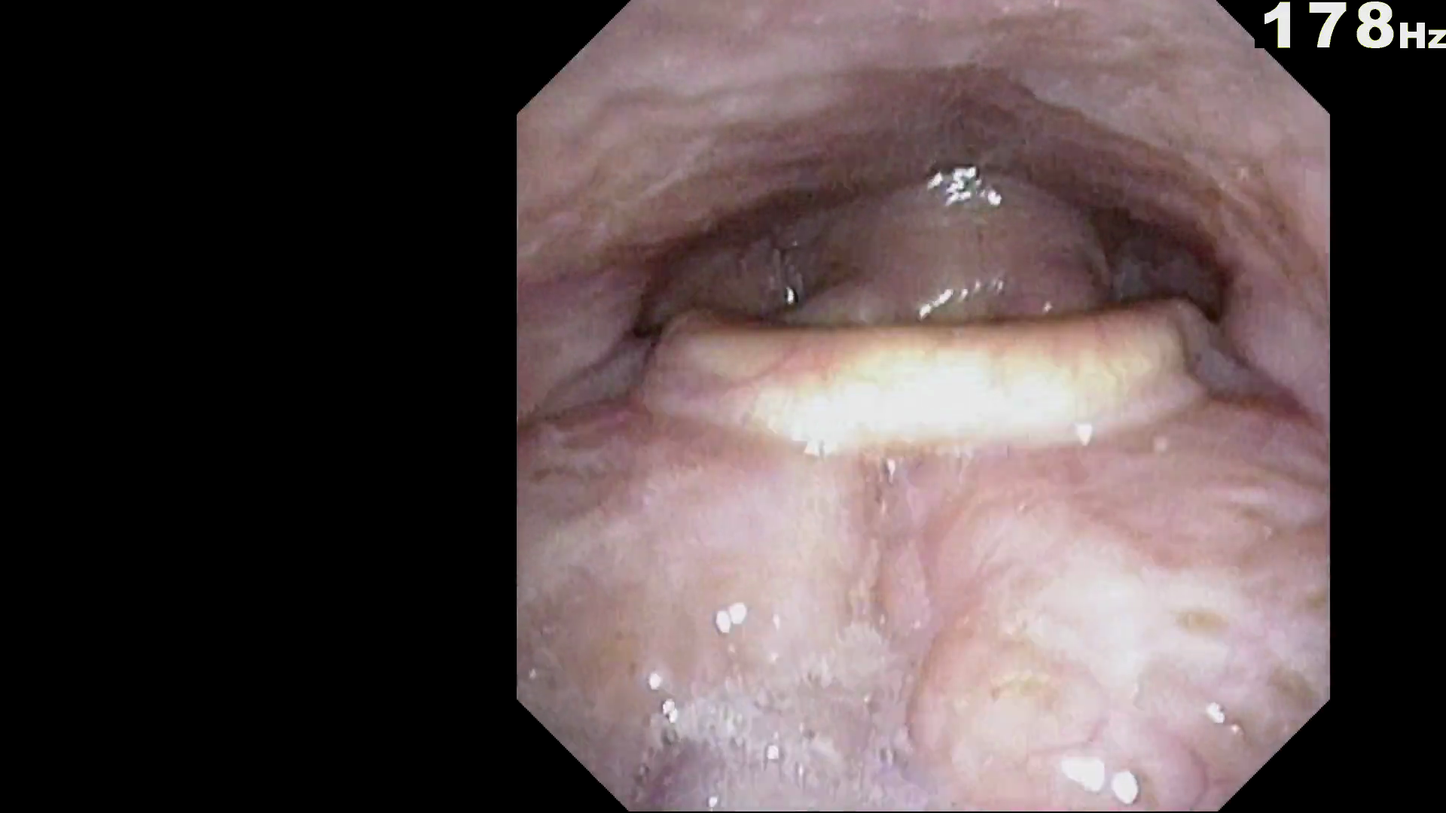epiglottis: (628, 287, 1227, 484)
